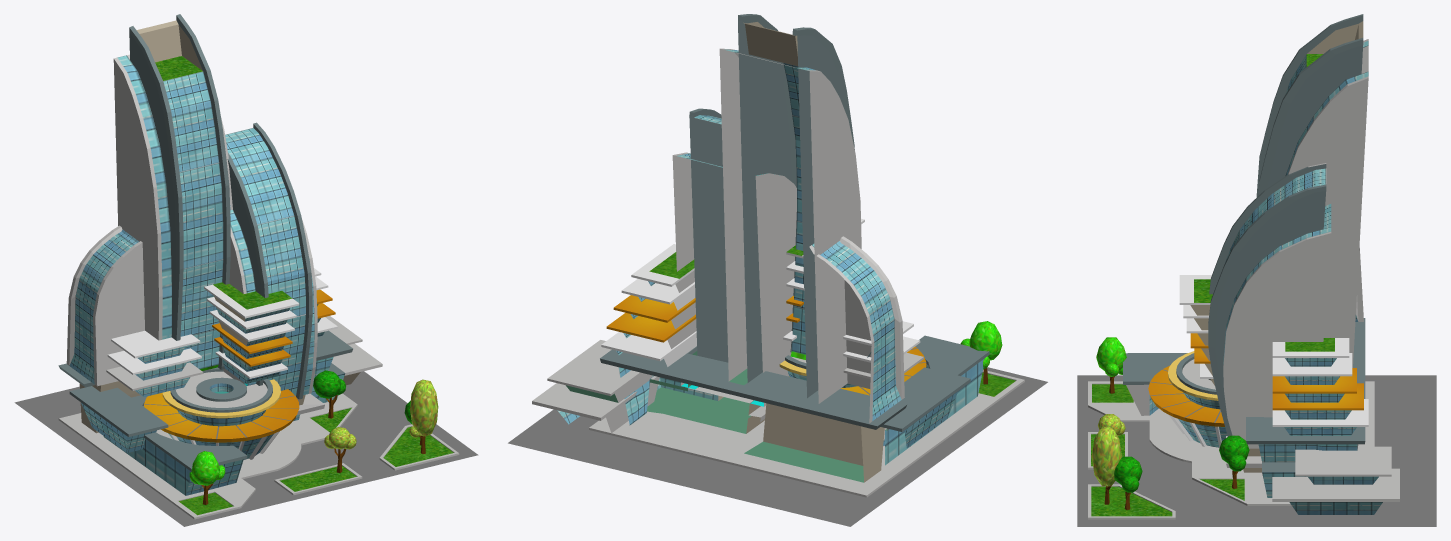
Rendered from Insurance_LV3.fbx.
3 renders of one model, left to right at view 1: azimuth 30°, elevation 25°; view 2: azimuth 150°, elevation 25°; view 3: azimuth 270°, elevation 25°, orthographic. The views are drawn at different scales.
Parts seen in each view (by area): view 1: income level 3; view 2: income level 3; view 3: income level 3.
Boxes of the visible parts, x1,y1,x2,y2 form: income level 3: [14, 14, 478, 526]; income level 3: [508, 14, 1047, 526]; income level 3: [1077, 14, 1436, 526].
Bounding box in the file's own units: 120 × 149 × 120.
